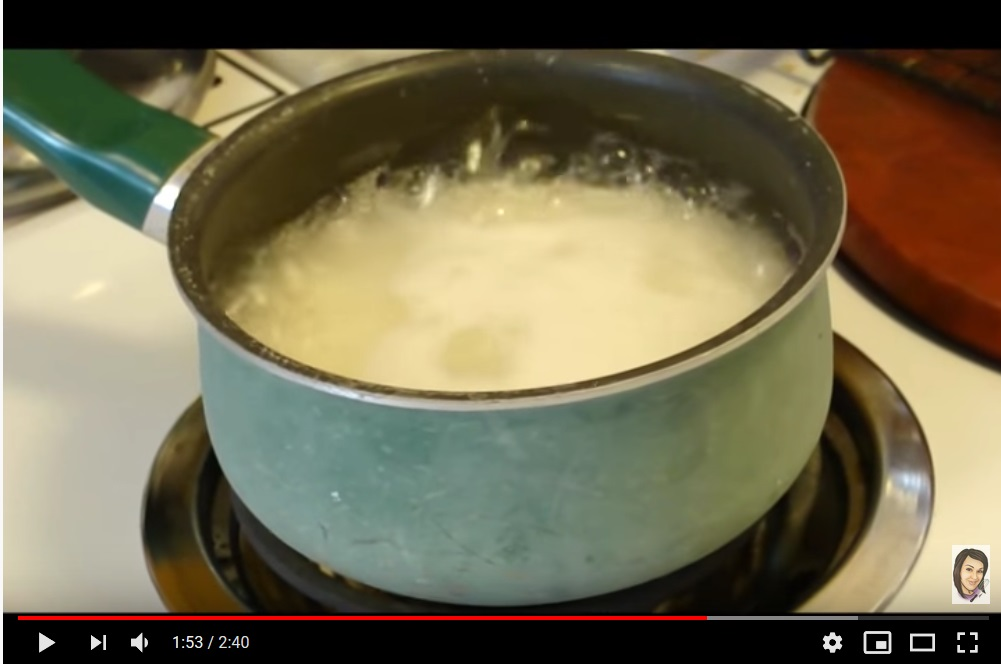Steaming: (188, 59, 828, 559)
